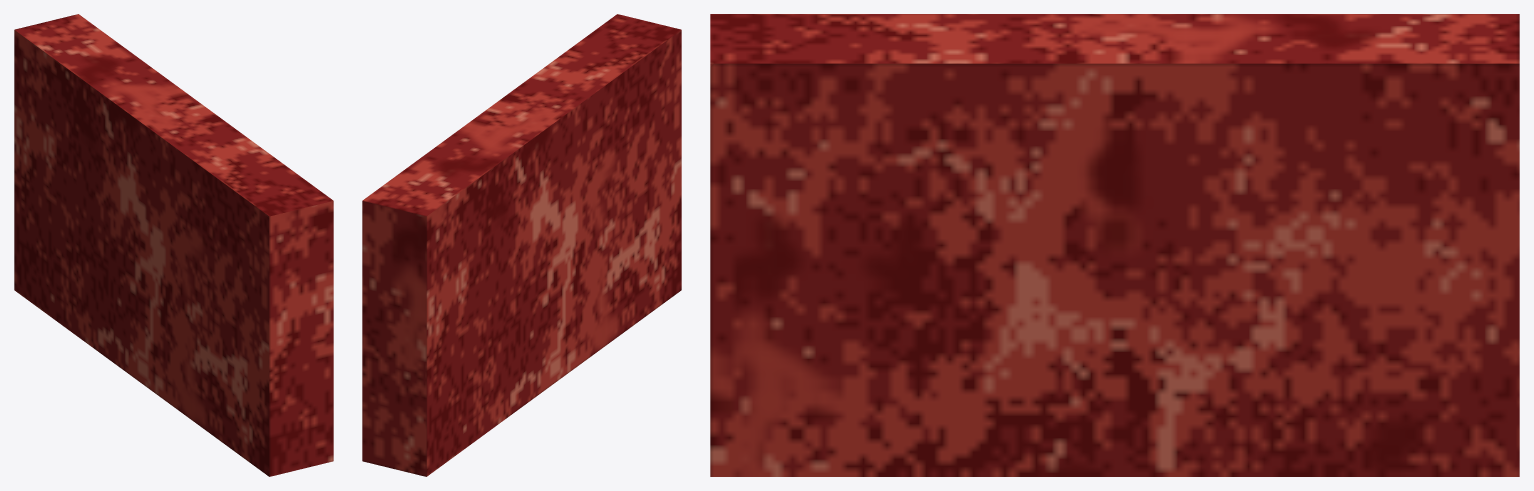
File: meatwall2.fbx
3 renders of one model, left to right at view 1: azimuth 30°, elevation 25°; view 2: azimuth 150°, elevation 25°; view 3: azimuth 270°, elevation 25°, orthographic. The views are drawn at different scales.
Parts seen in each view (by area): view 1: mesh; view 2: mesh; view 3: mesh.
Part boxes in pixels (x1=…): mesh: x1=14, y1=14, x2=333, y2=476; mesh: x1=362, y1=14, x2=681, y2=476; mesh: x1=710, y1=14, x2=1519, y2=476.
Size of the model in its own units: 93.75 by 362 by 644.
1 material, 1 textured.
